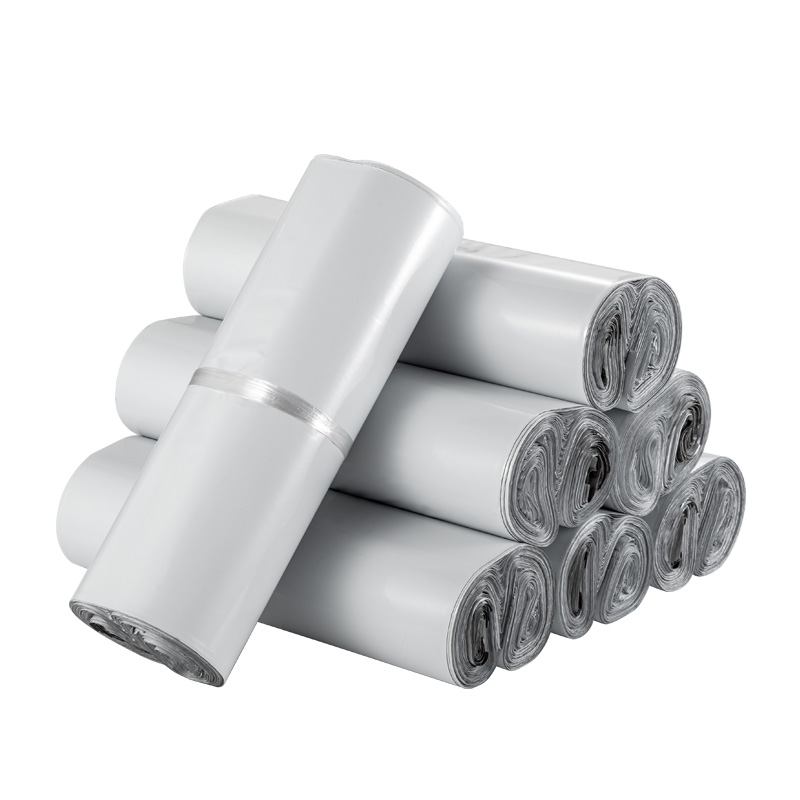塑料袋: (17, 101, 800, 800)
